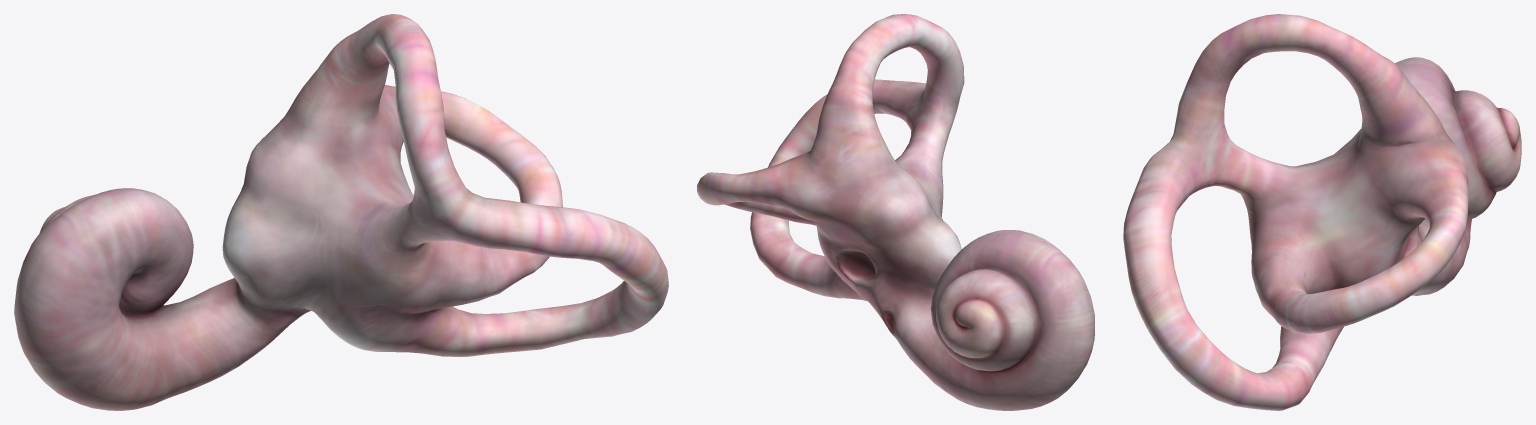
The model's file is bonylab.glb.
3 renders of one model, left to right at view 1: azimuth 30°, elevation 25°; view 2: azimuth 150°, elevation 25°; view 3: azimuth 270°, elevation 25°, orthographic. The views are drawn at different scales.
Visible parts, largest first — view 1: aaaaa; view 2: aaaaa; view 3: aaaaa.
Boxes of the visible parts, x1,y1,x2,y2 form: aaaaa: (14,14,668,410); aaaaa: (697,14,1094,410); aaaaa: (1123,14,1521,410).
Bounding box in the file's own units: 8.7 × 6.08 × 6.22.
1 material, 1 textured.
